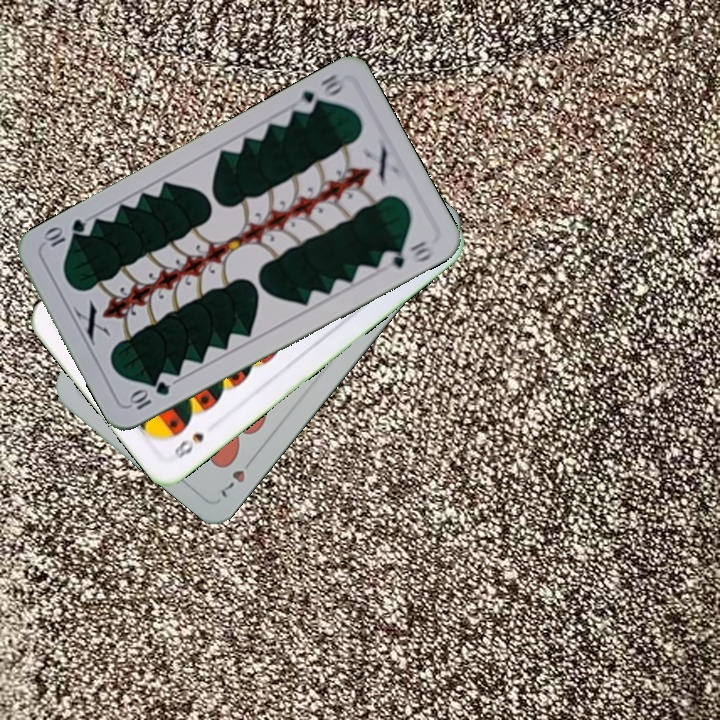G10: (290, 70, 349, 117), (125, 377, 173, 413)
H7: (216, 452, 256, 501)
S8: (170, 428, 207, 462)
